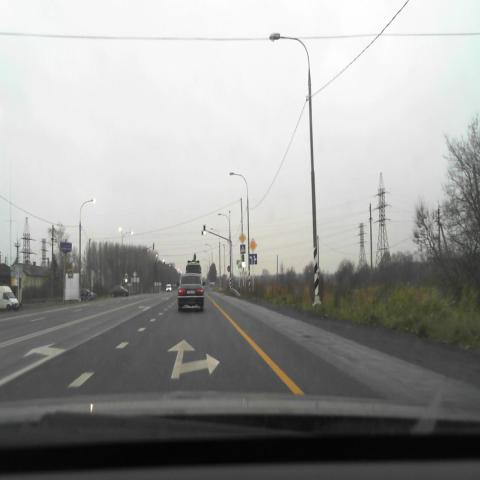5_15_2_2: (249, 253, 257, 264)
